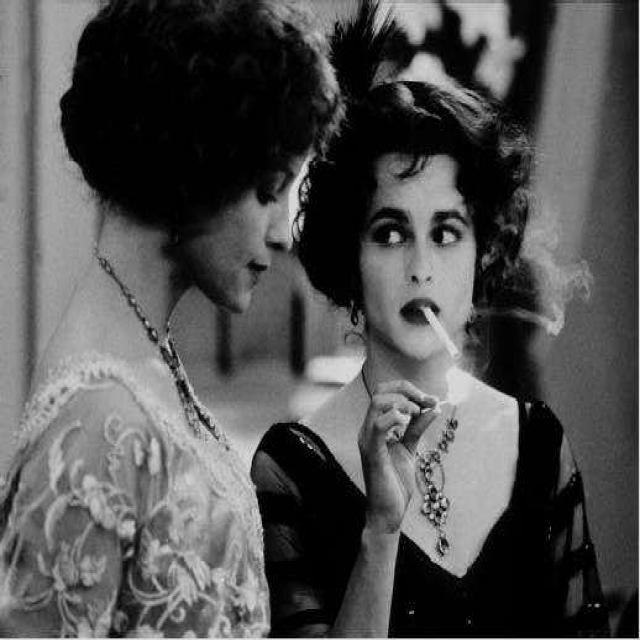Smooking: (423, 299, 466, 369)
